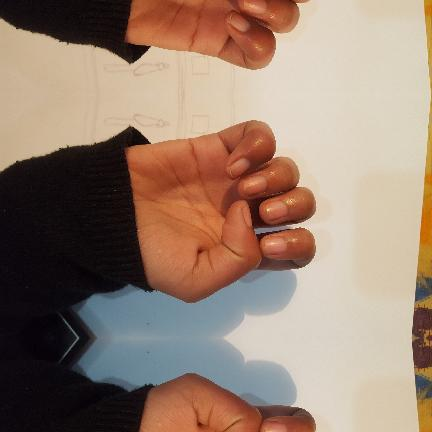Nail: (265, 199, 288, 220), (229, 157, 251, 178), (229, 10, 251, 31), (244, 175, 267, 195), (264, 235, 288, 254), (244, 0, 267, 13), (264, 420, 288, 432), (242, 202, 253, 226)
